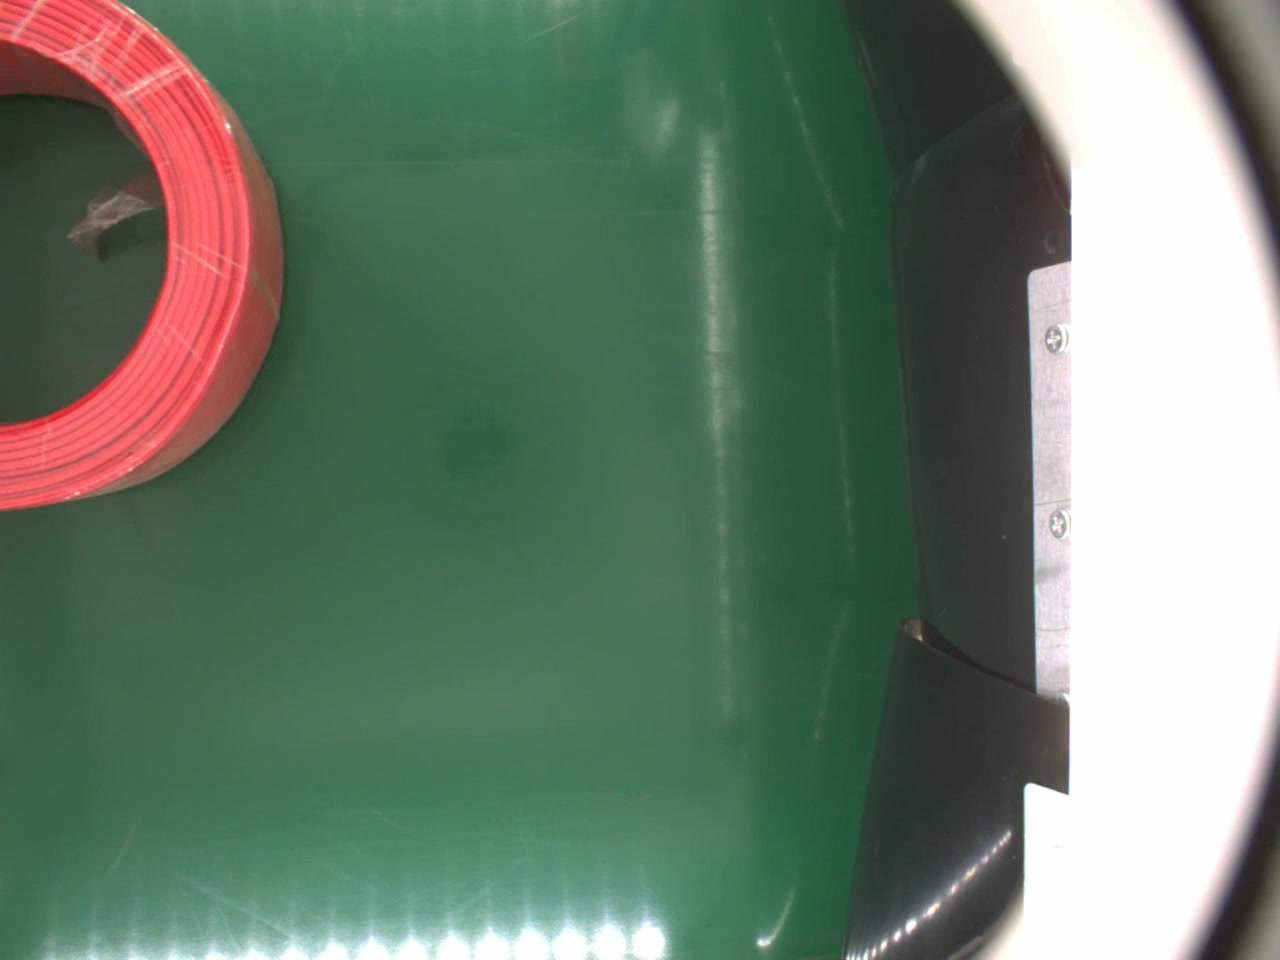red: (0, 0, 284, 511)
